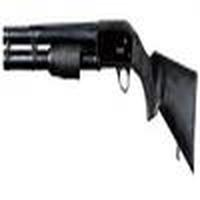gun: (3, 23, 200, 173)
